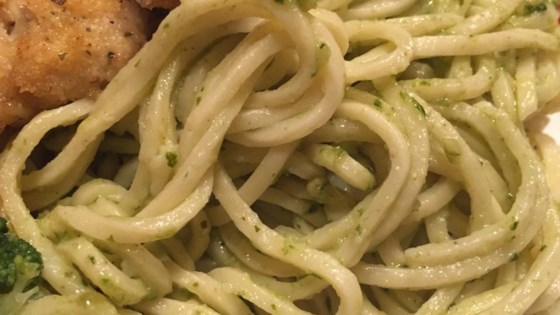plain spaghetti: (155, 12, 545, 303)
